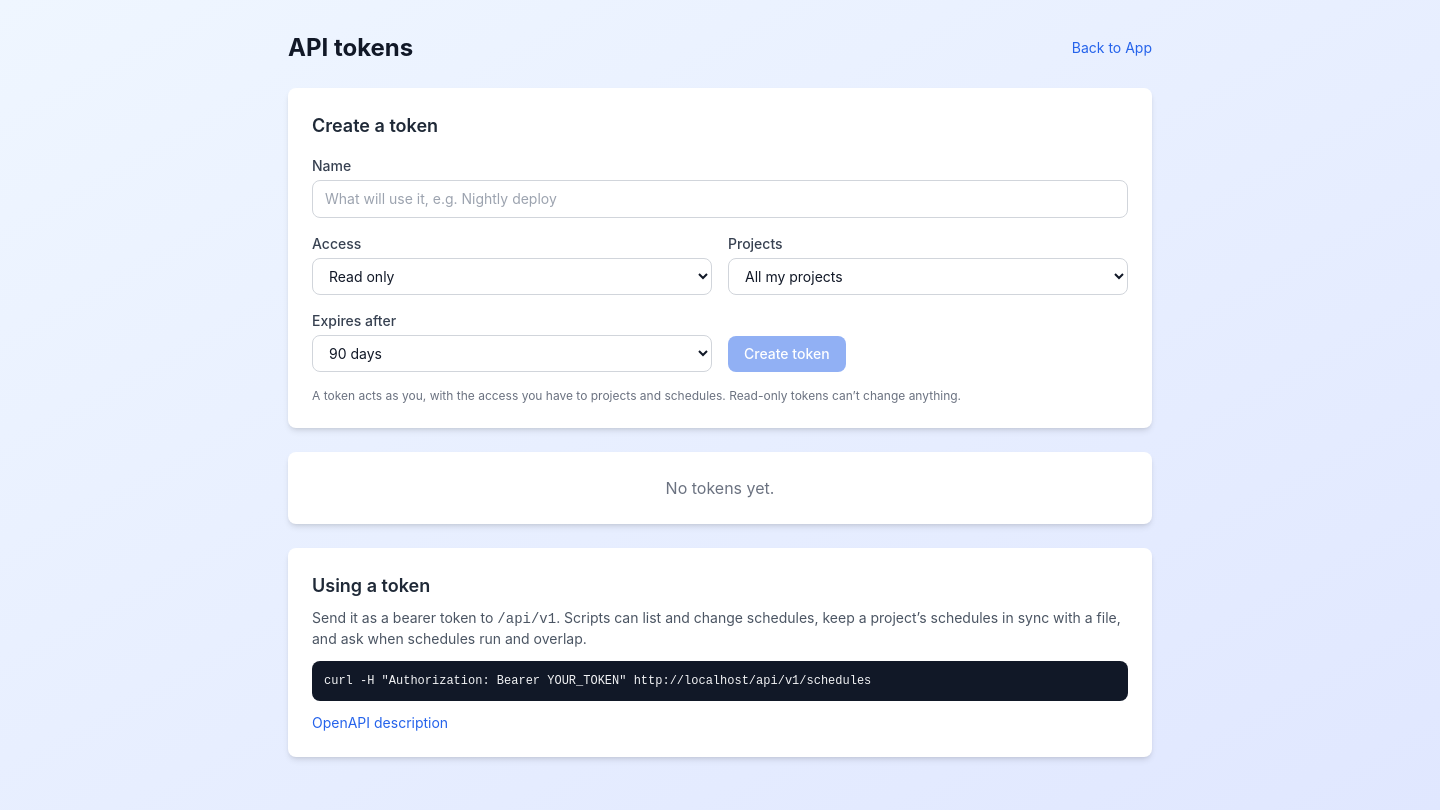
Test case: ApiTokensPage › needs a name and reports the server's refusal
Check: the text "No tokens yet." is shown, box [666, 478, 774, 498]
Check: the button "Create token" is disabled, box [728, 336, 846, 372]
Type "Deploy" into the field labelled "Name" at coordinates (720, 199), box [312, 180, 1128, 218]
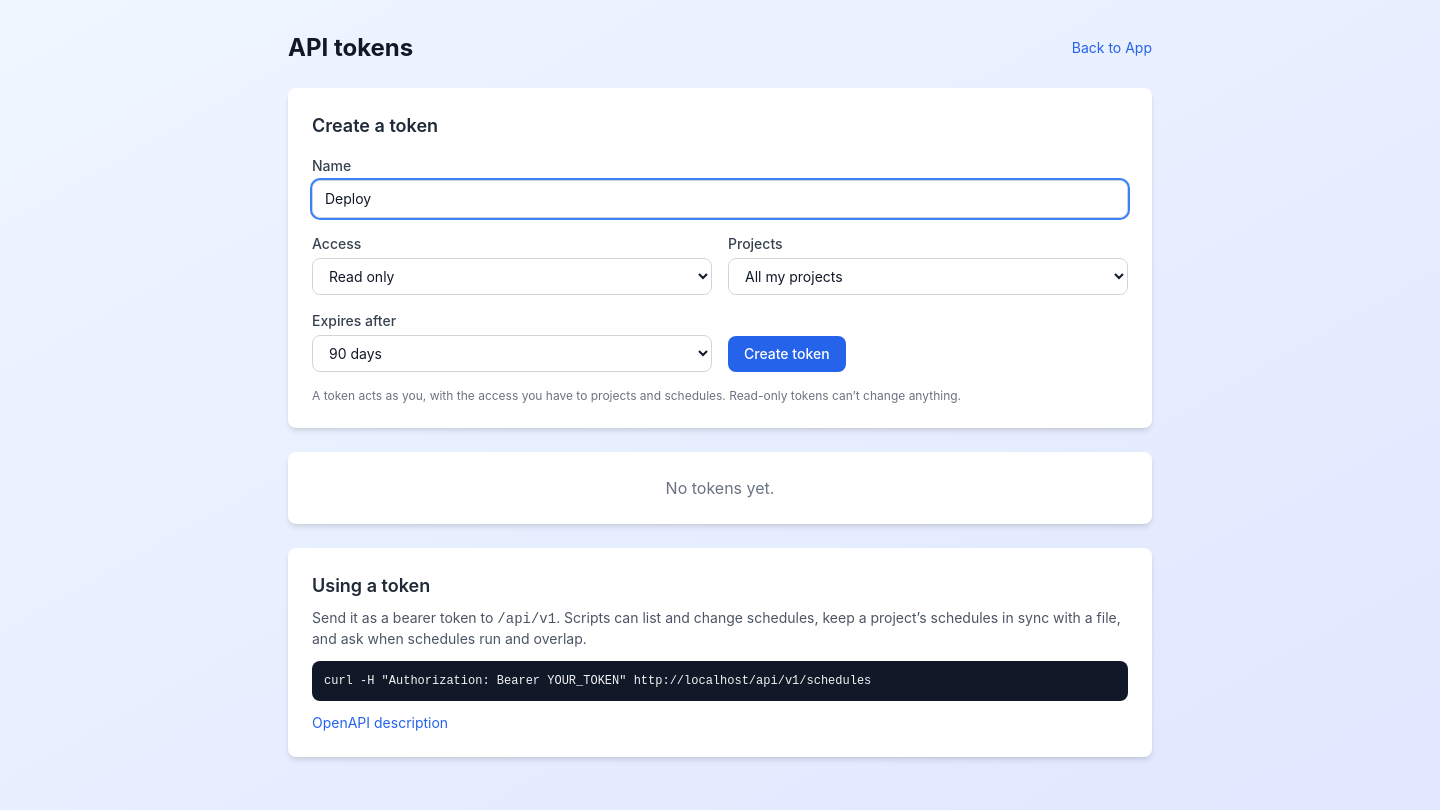
Click the button "Create token" at coordinates (787, 354), box [728, 336, 846, 372]
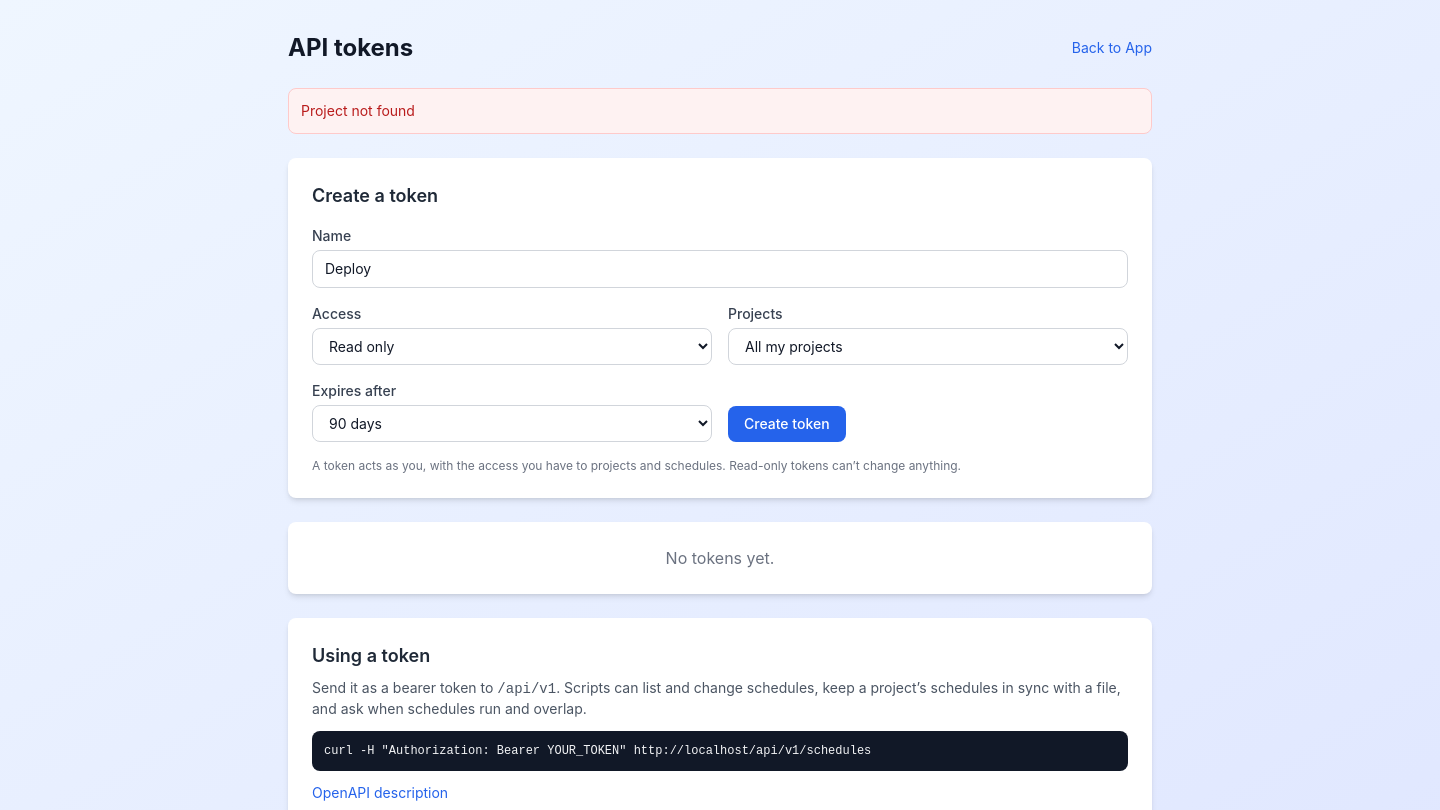
Check: the message reads "Project not found", box [301, 102, 415, 119]
